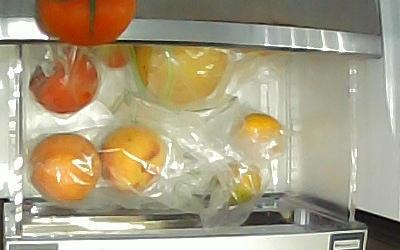peach_vinyl: (28, 131, 101, 201), (98, 122, 168, 192)
pear_vinyl: (132, 44, 228, 103)
tangerine_vinyl: (211, 159, 261, 205), (230, 112, 282, 154)
tomato_vinyl: (26, 46, 98, 113), (89, 46, 132, 69)
